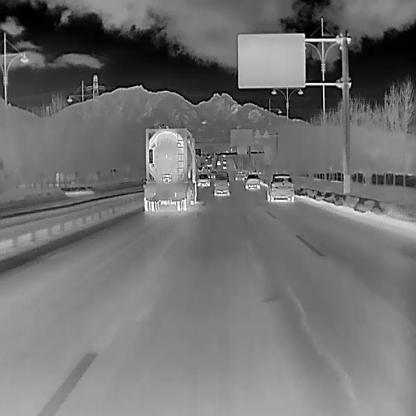car: (266, 172, 295, 202), (213, 171, 230, 195), (244, 173, 260, 189), (196, 172, 210, 186), (234, 169, 244, 180), (204, 154, 209, 161), (216, 158, 221, 165), (221, 164, 226, 169), (222, 159, 226, 164), (198, 166, 202, 170)
truck: (142, 125, 198, 211)
